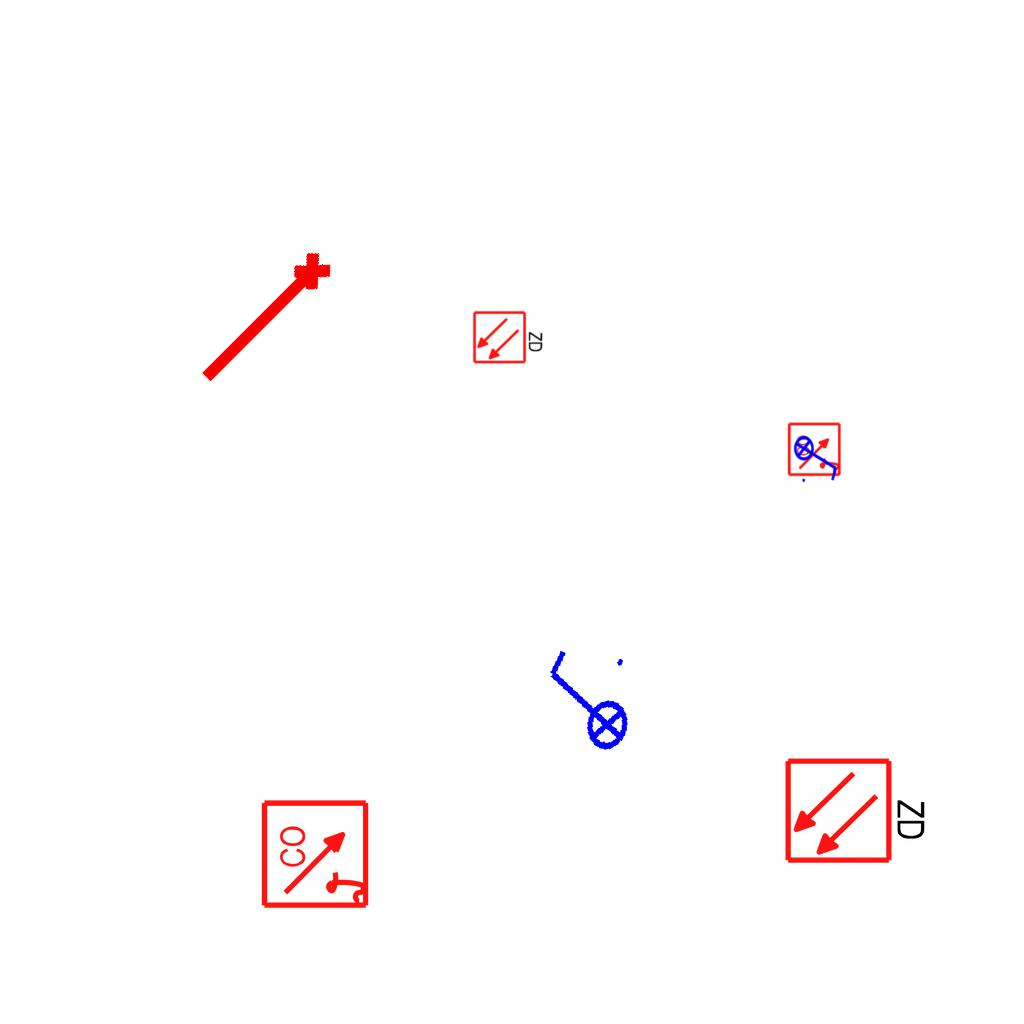ASR_Ansaugoeffnung: (187, 242, 345, 400)
Ausschalter_beleuchtet: (527, 638, 643, 768), (793, 429, 841, 485)
ROA_Rauchmelder_optisch_mit_Signalgeber_(Sockelsirene): (260, 797, 373, 910), (787, 421, 843, 477)
ZD_Melder_in_Zwischendecke_mit_Revisionsoeffnung_mind_40_x_40_cm: (783, 752, 932, 866), (472, 308, 546, 365)
